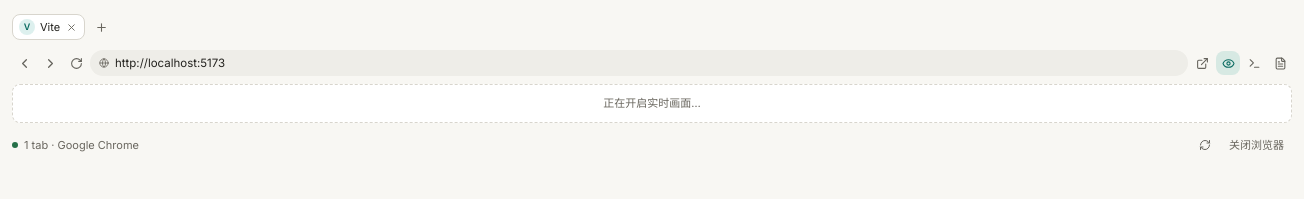
BrowserPanel › shows action errors as an inline banner without replacing the tab list
Expected: the text "Vite" is shown, [40,19,60,35]
Click the button named "关闭 tab Vite".
click(71, 27)  # box [62,18,80,36]
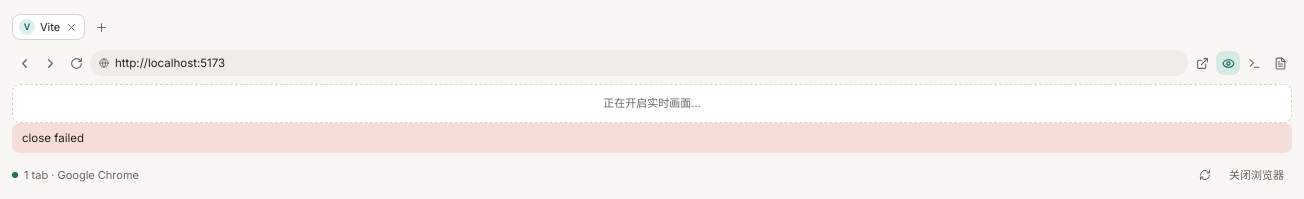
Expected: the text "Vite" is shown, [40,19,60,35]
Now the message reads "close failed", box [22,130,84,144]
